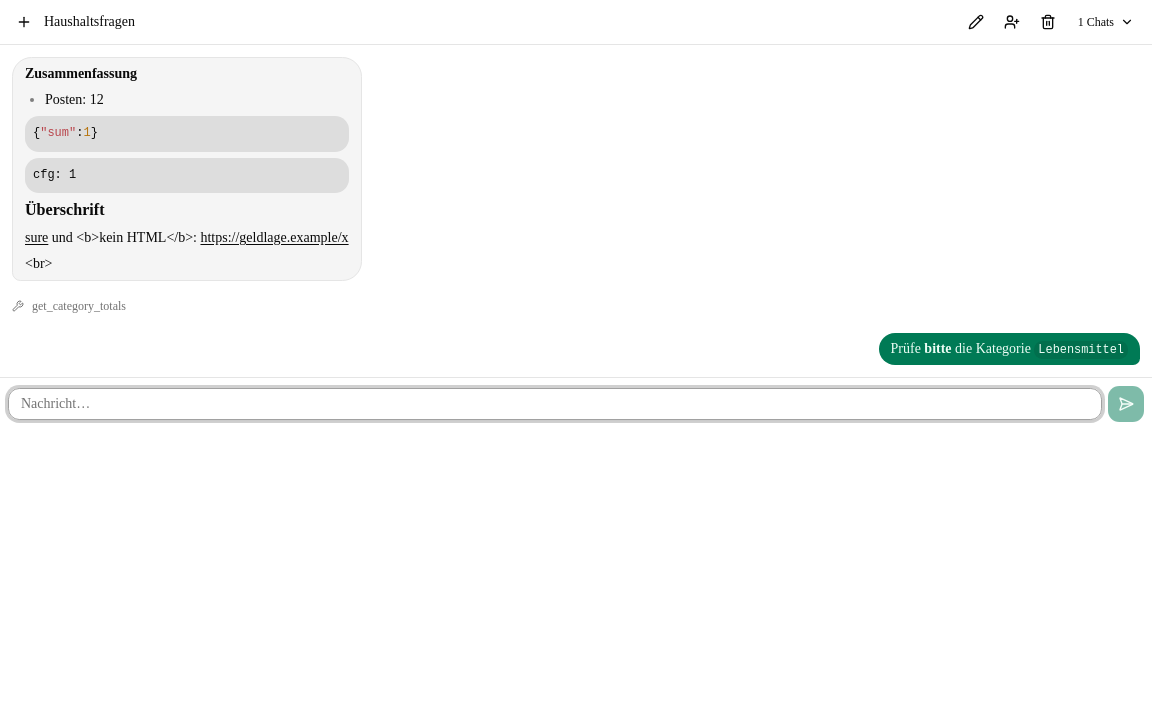
<AgentChat> › renders markdown in assistant and user text, keeps raw HTML inert
expect the text "Zusammenfassung" is shown: met, box [25,66,137,81]
expect the list item "Posten: 12" is shown: met, box [45,92,104,107]
Click the button "get_category_totals" at (69, 306), box [12,298,126,314]
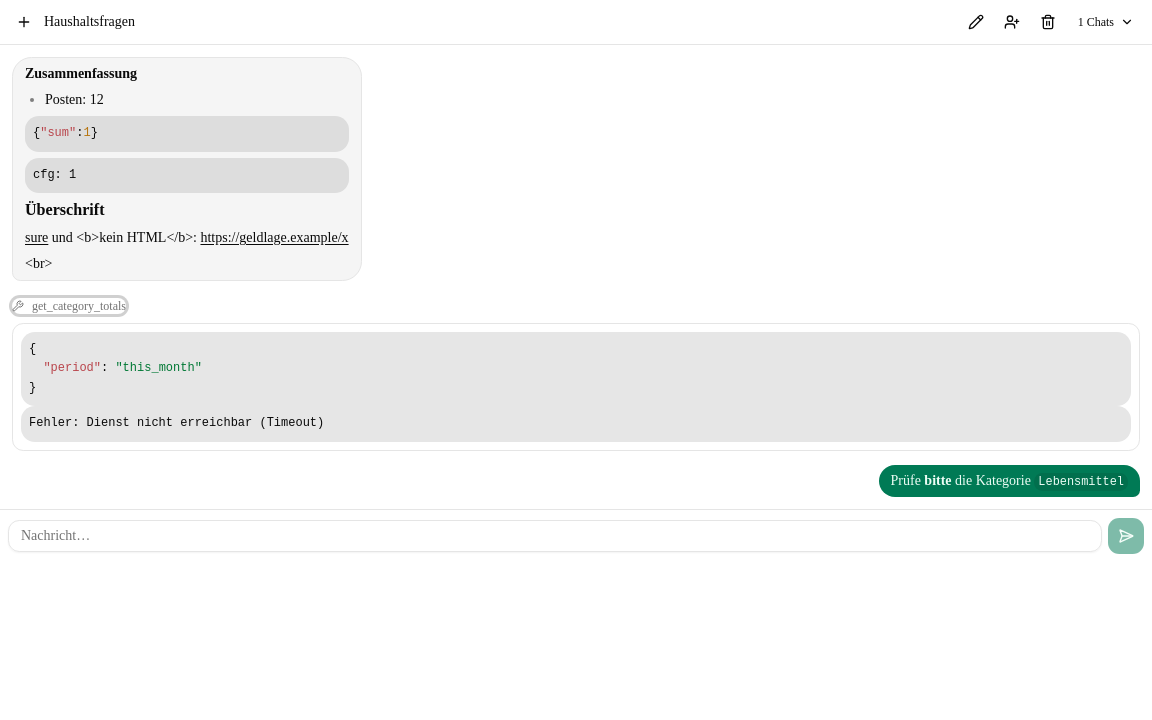
expect the text "bitte" is shown: met, box [924,473,952,488]
expect the element with class "language-json" showing "{ \"period\": \"this_month\" }" is shown: met, box [29,342,202,395]
expect the text "Fehler: Dienst nicht erreichbar (Timeout)" is shown: met, box [29,416,324,430]
